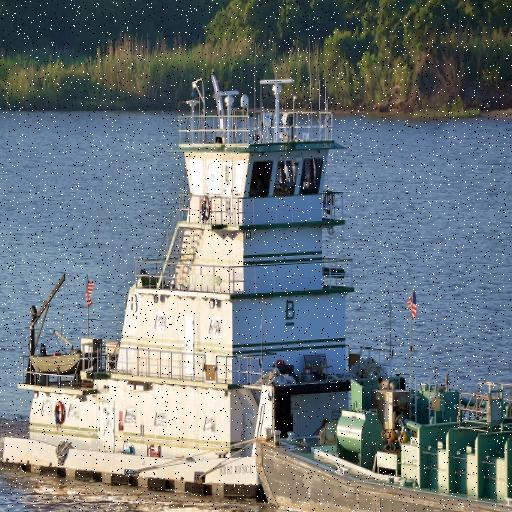tugboat: (1, 67, 412, 512)
